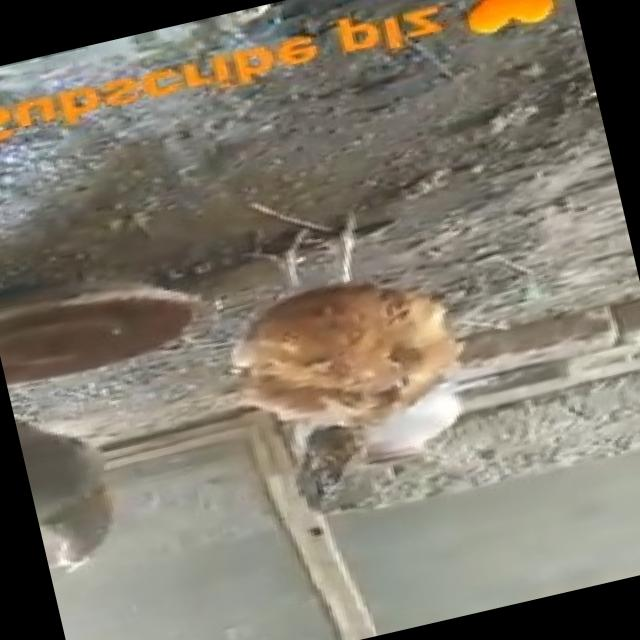sleeping chickens: (202, 192, 472, 482)
